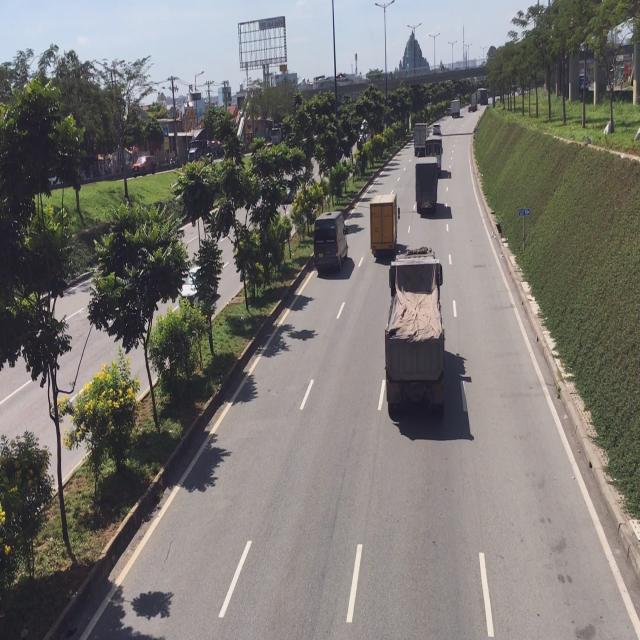bus: (313, 210, 348, 275)
truck: (383, 246, 446, 422), (369, 194, 398, 257), (414, 155, 438, 213), (413, 123, 428, 156), (427, 136, 443, 160)
